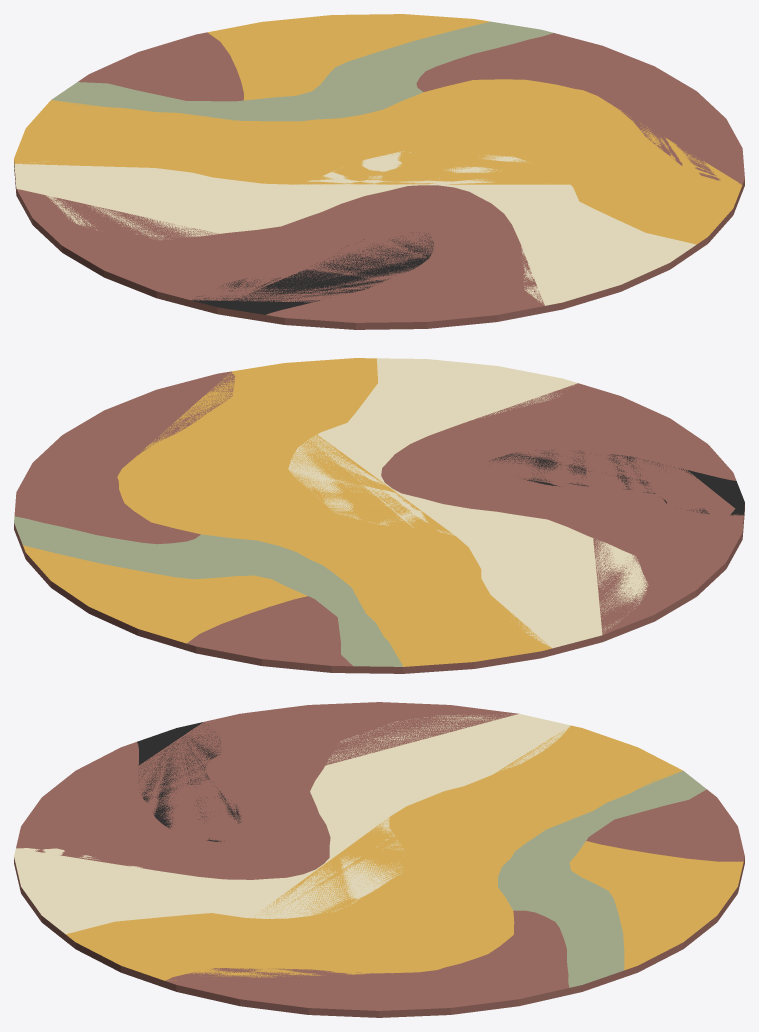
Rendered from Carpet.fbx.
The picture shows the model from 3 angles, top to bottom: view 1: azimuth 30°, elevation 25°; view 2: azimuth 150°, elevation 25°; view 3: azimuth 270°, elevation 25°; orthographic projection.
Parts seen in each view (by area): view 1: Carpet; view 2: Carpet; view 3: Carpet.
Boxes of the visible parts, x1=… form: Carpet: x1=14, y1=14, x2=744, y2=329; Carpet: x1=14, y1=358, x2=744, y2=673; Carpet: x1=14, y1=702, x2=744, y2=1017.
Bounding box in the file's own units: 5.37 × 0.0567 × 5.37.
